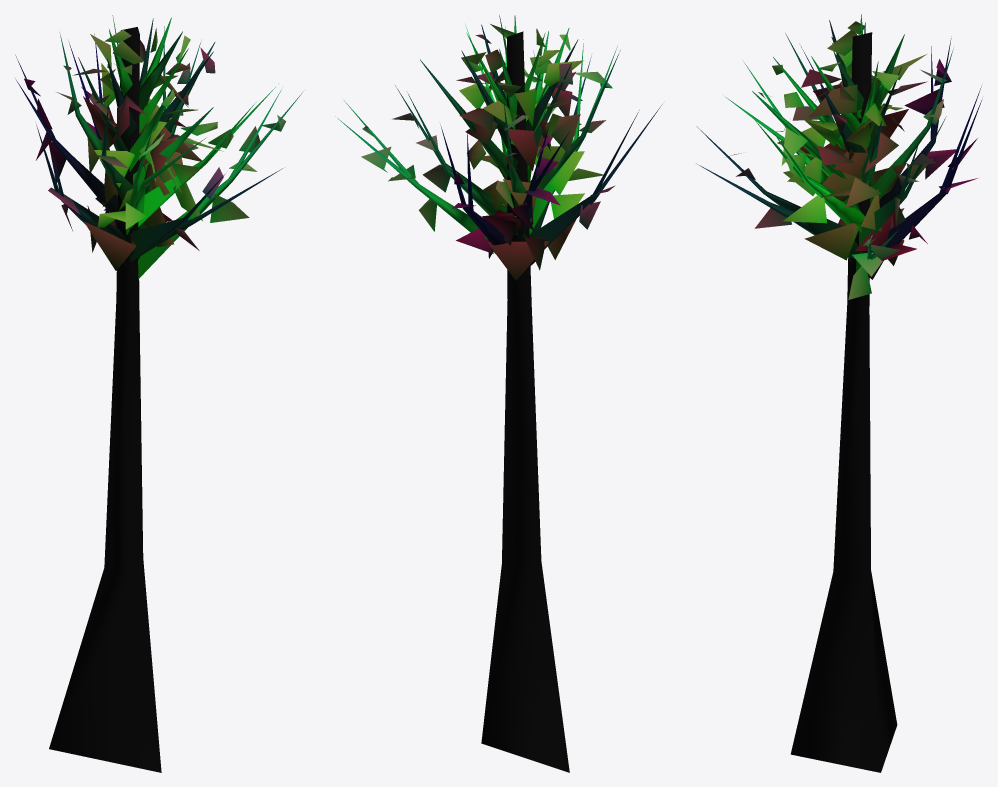
File: arbol_LOD2.fbx
3 renders of one model, left to right at view 1: azimuth 30°, elevation 25°; view 2: azimuth 150°, elevation 25°; view 3: azimuth 270°, elevation 25°, orthographic.
Parts seen in each view (by area): view 1: _0, _1; view 2: _0, _1; view 3: _0, _1.
Part boxes in pixels (x1,y1,x2,y2): _0: [15, 15, 303, 772]; _1: [24, 28, 285, 270]; _0: [335, 15, 662, 772]; _1: [361, 24, 615, 280]; _0: [696, 14, 982, 772]; _1: [728, 21, 978, 299].
Size of the model in its own units: 63.85 by 152 by 54.72.
